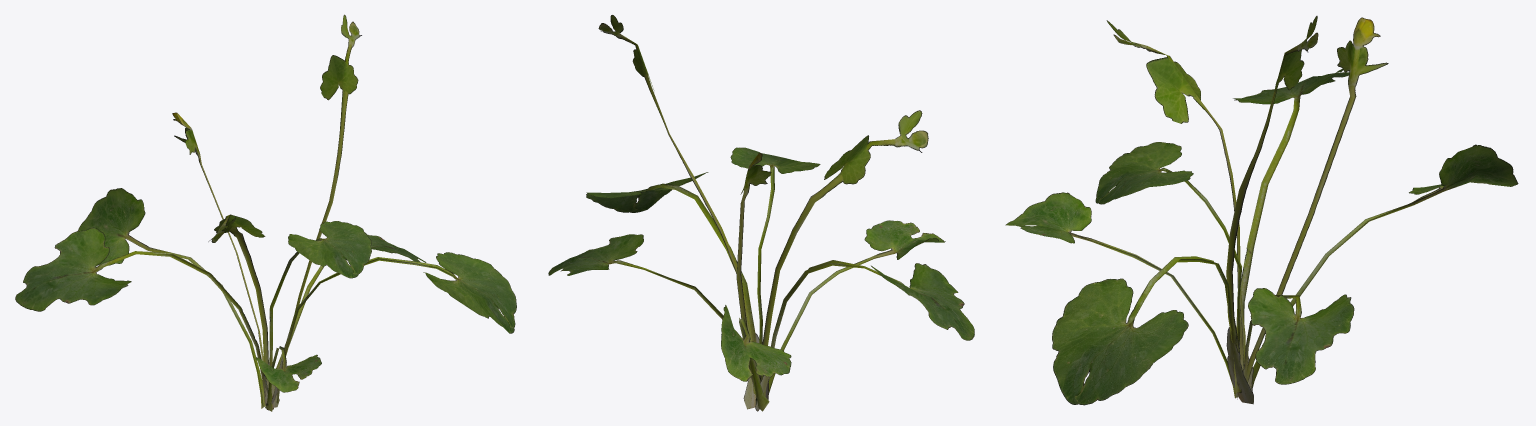
The model's file is celandine_01_a.fbx.
The picture shows the model from 3 angles, left to right: view 1: azimuth 30°, elevation 25°; view 2: azimuth 150°, elevation 25°; view 3: azimuth 270°, elevation 25°; orthographic projection. The views are drawn at different scales.
Parts seen in each view (by area): view 1: celandine_01_a; view 2: celandine_01_a; view 3: celandine_01_a.
Part boxes in pixels (x1,y1,x2,y2): celandine_01_a: (15,14,516,411); celandine_01_a: (548,15,974,411); celandine_01_a: (1005,16,1518,405).
Bounding box in the file's own units: 0.2757 × 0.22 × 0.2282.
Materials: 1 (1 with a texture image).
